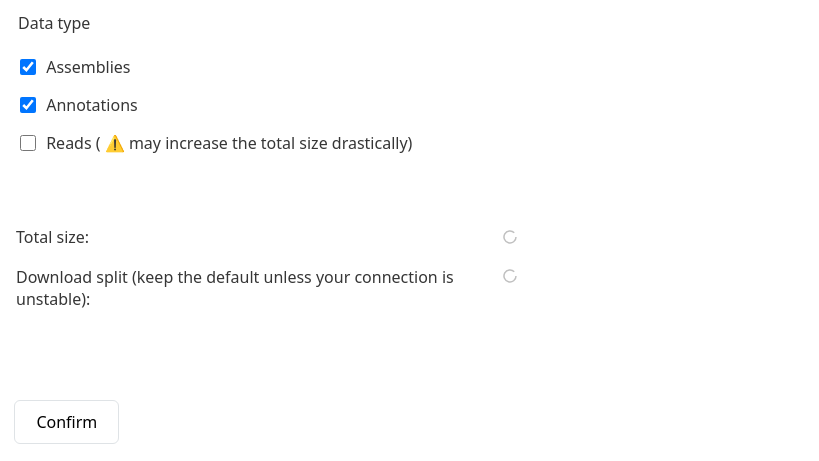
Test: on form submit › reset button › resets the form
This screenshot has width=819, height=461.
Click the button "Confirm": (67, 422) [14,400,119,444]
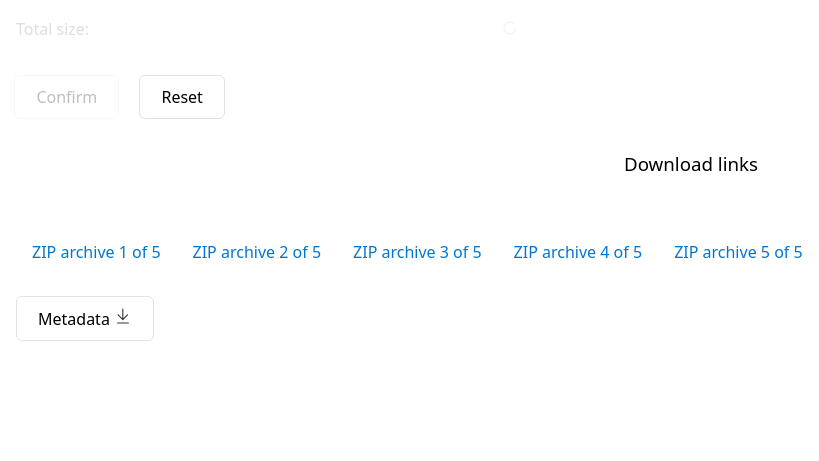
Click the button "Reset": (182, 97) [140,75,225,119]
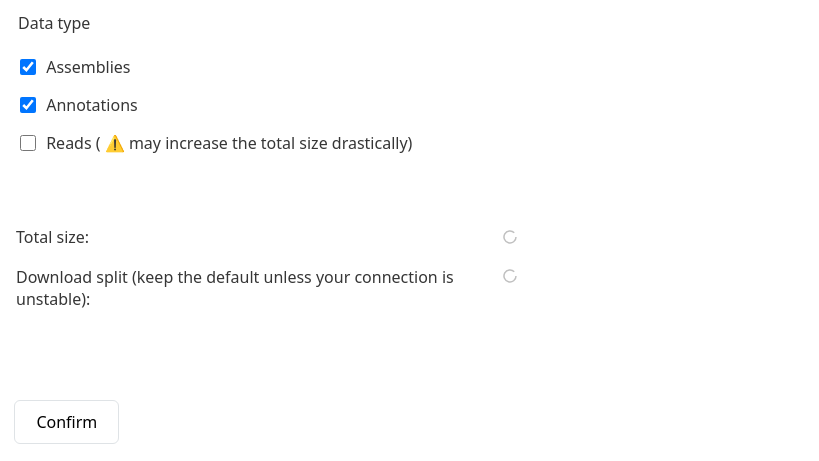
Expected: the heading "Download links" is gone
Expected: the button "Reset" is gone
Expected: the element named "Estimating the download size. Please wait" is enabled, [16,12,519,310]
